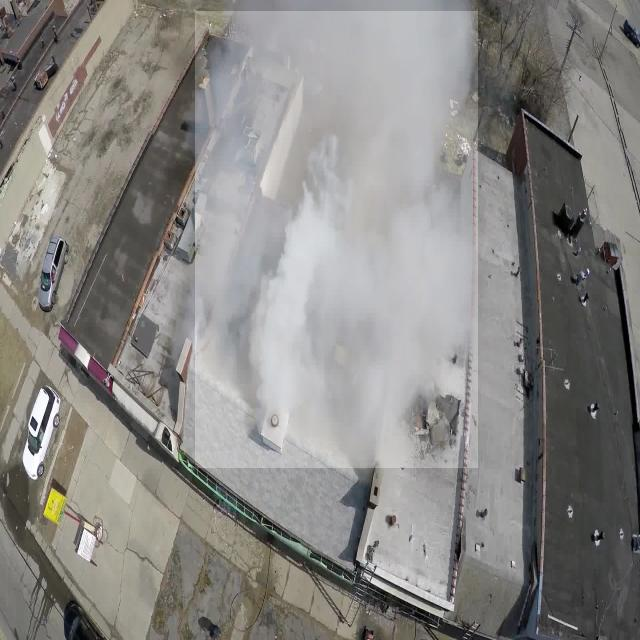Smoke: (195, 11, 478, 468)
